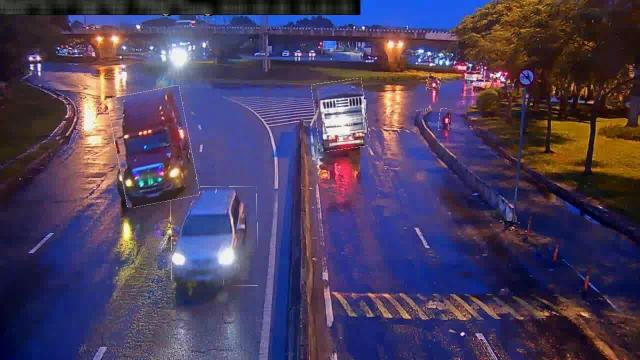Bike: (438, 108, 449, 130), (427, 77, 441, 90)
Car: (170, 186, 258, 286)
Truck: (112, 88, 195, 206), (314, 80, 368, 150)
